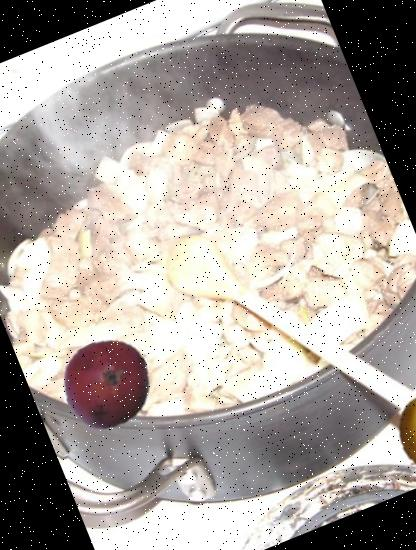Grapefruit: (382, 374, 416, 487)
Pomegranate: (50, 326, 166, 442)
